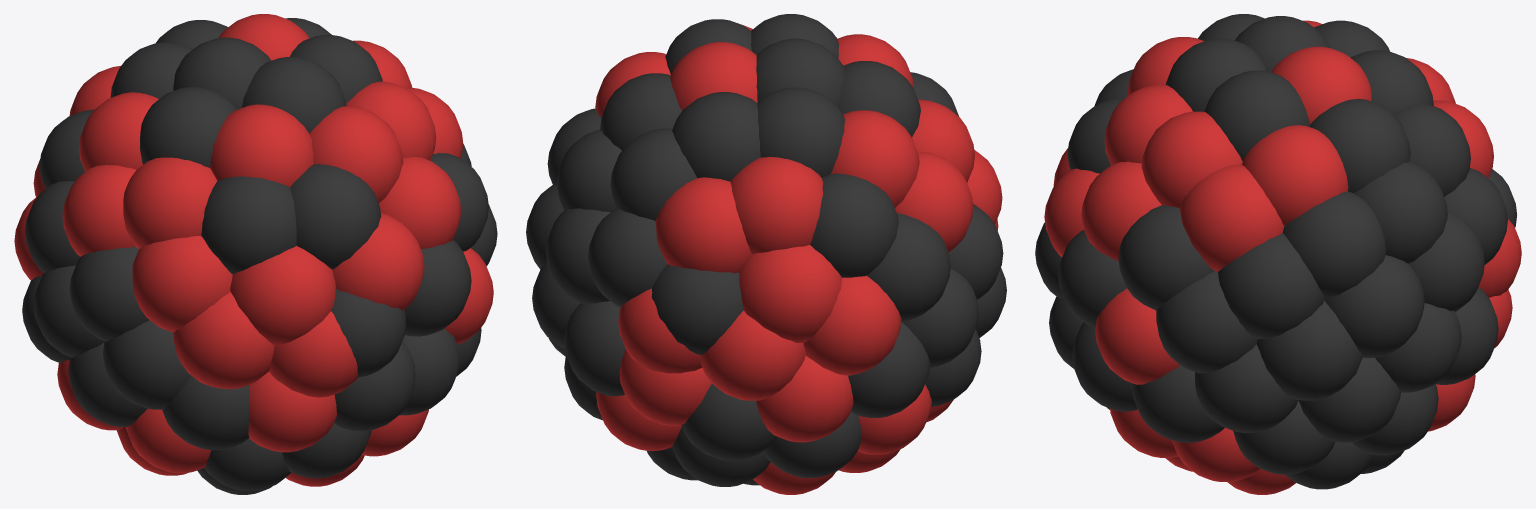
The model's file is atomic_nucleus_uranium_3d_model.glb.
3 views of the same model, side by side, from view 1: azimuth 30°, elevation 25°; view 2: azimuth 150°, elevation 25°; view 3: azimuth 270°, elevation 25° (orthographic).
Visible parts, largest first — view 1: atom-nucleus; view 2: atom-nucleus; view 3: atom-nucleus.
Boxes of the visible parts, x1=… form: atom-nucleus: x1=14, y1=14, x2=497, y2=494; atom-nucleus: x1=526, y1=14, x2=1006, y2=494; atom-nucleus: x1=1035, y1=14, x2=1521, y2=494.
Size of the model in its own units: 2.57 by 2.58 by 2.6.
